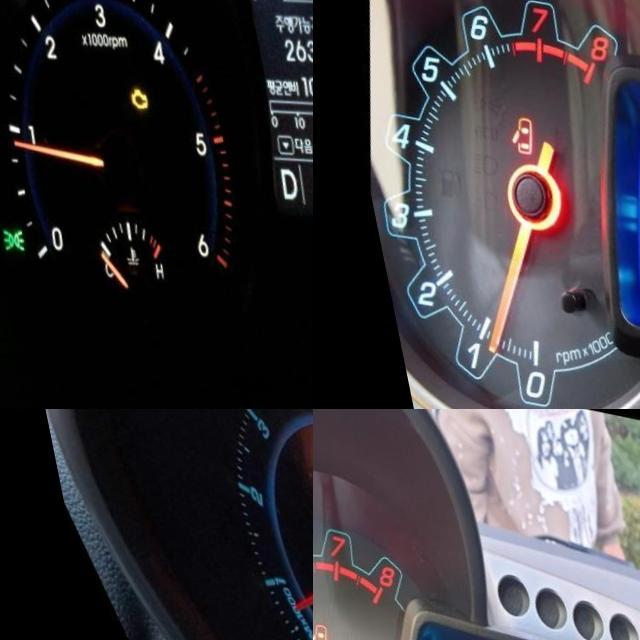Doors: (495, 114, 528, 157)
SideLamp: (0, 226, 6, 250)
